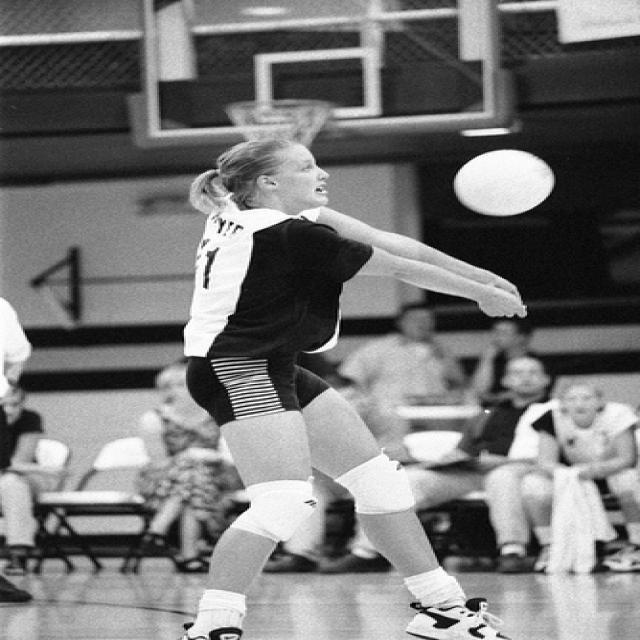volleyball: (454, 150, 554, 216)
